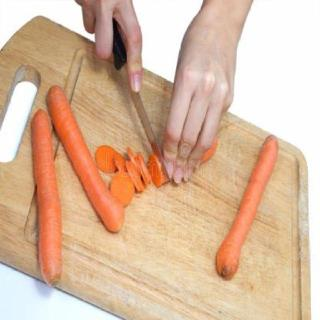carrot: (47, 82, 126, 236), (214, 134, 282, 282), (30, 108, 64, 291)
